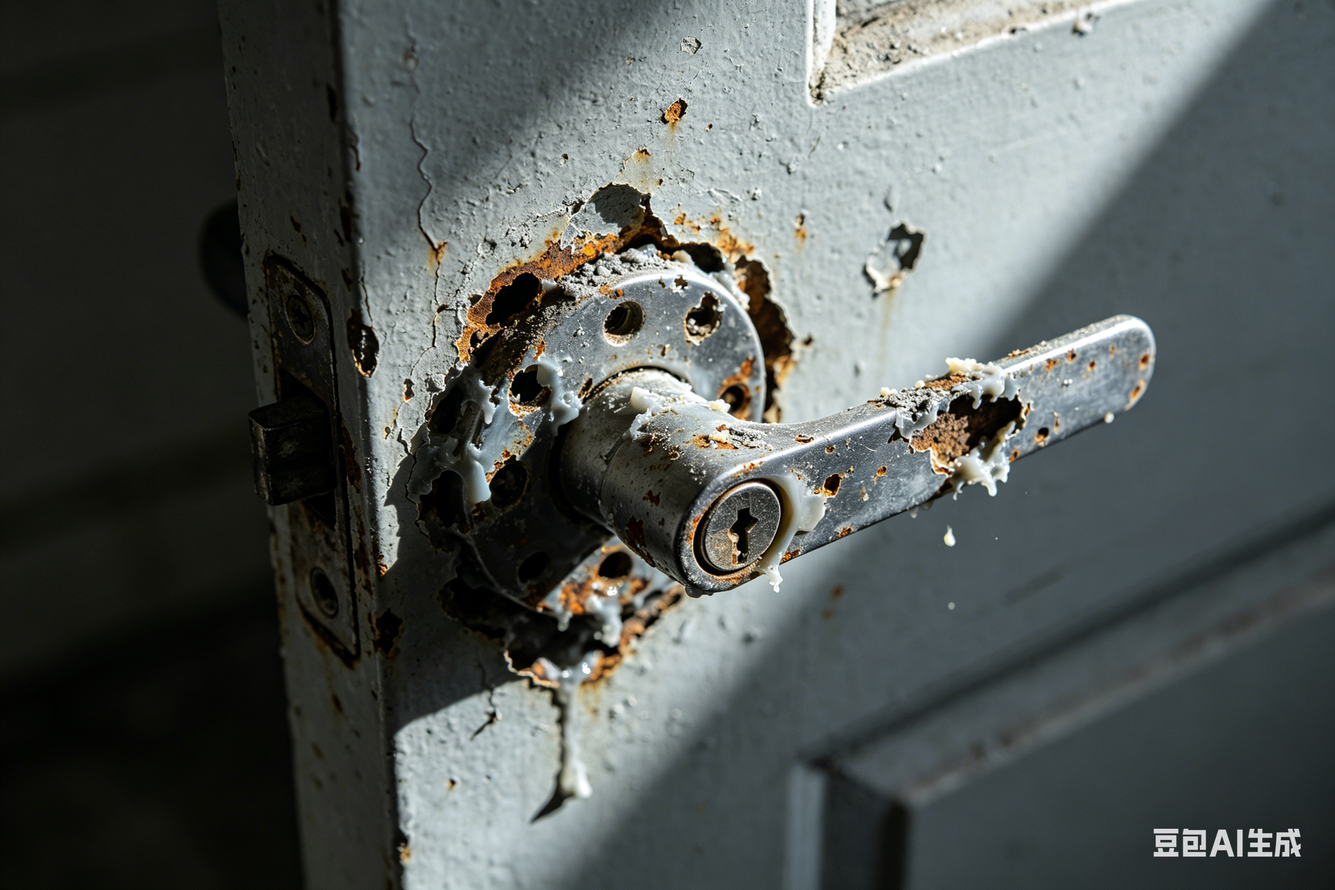BadLock: (428, 252, 805, 641), (872, 386, 1051, 473)
